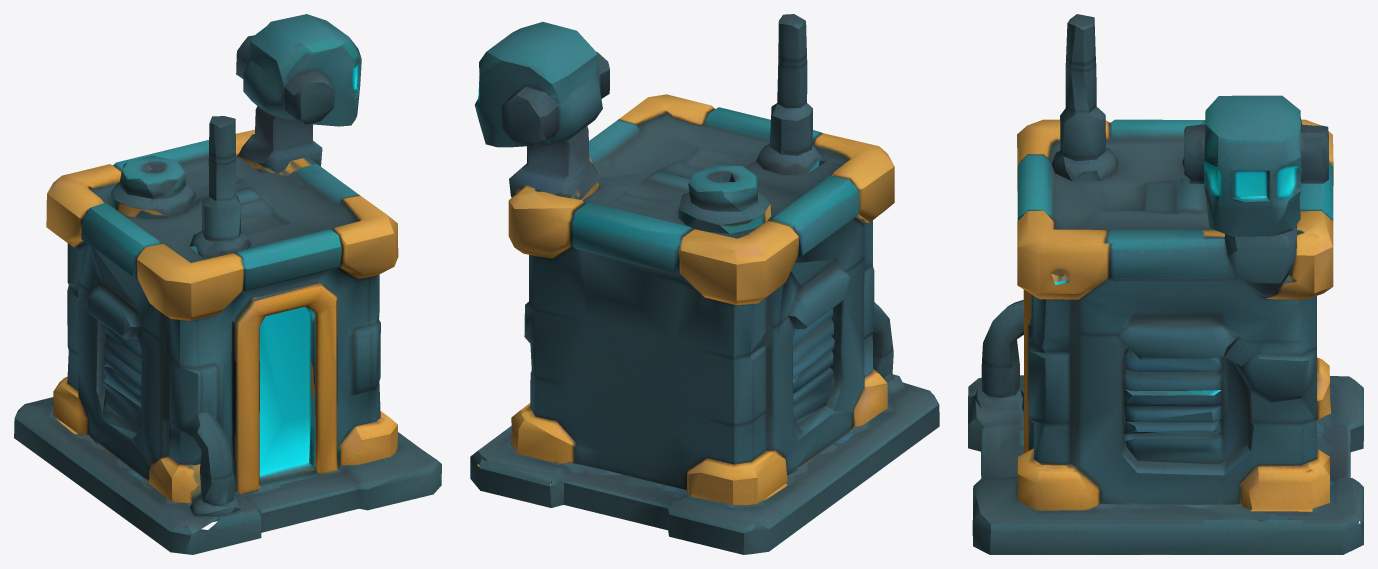
File: Environment 3.5.fbx
3 renders of one model, left to right at view 1: azimuth 30°, elevation 25°; view 2: azimuth 150°, elevation 25°; view 3: azimuth 270°, elevation 25°, orthographic. The views are drawn at different scales.
Visible parts, largest first — view 1: tmpxo_ujcu_.ply; view 2: tmpxo_ujcu_.ply; view 3: tmpxo_ujcu_.ply.
Boxes of the visible parts, x1,y1,x2,y2 form: tmpxo_ujcu_.ply: (14,14,441,554); tmpxo_ujcu_.ply: (470,14,939,554); tmpxo_ujcu_.ply: (968,14,1363,554).
Size of the model in its own units: 162 by 199 by 164.
Materials: 1 (1 with a texture image).
